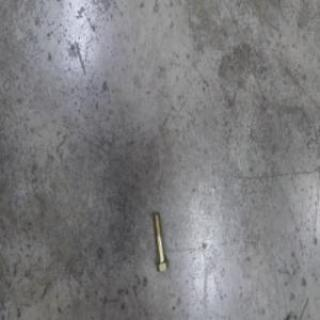Bolttrack_idkeyframe: (150, 212, 169, 274)
